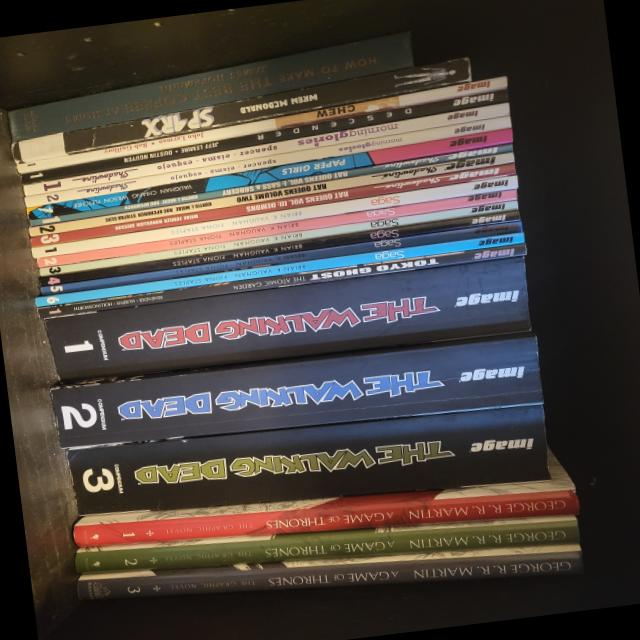book: (42, 256, 530, 383), (49, 332, 542, 450), (65, 404, 548, 519), (69, 450, 579, 549), (17, 75, 507, 177), (21, 88, 507, 187), (23, 101, 509, 198), (5, 30, 415, 144), (26, 127, 512, 222), (23, 114, 510, 208), (48, 56, 472, 159), (30, 173, 517, 260), (28, 151, 514, 238), (29, 162, 514, 248), (28, 143, 511, 227), (35, 187, 515, 271), (33, 230, 524, 310), (40, 208, 519, 288), (38, 199, 517, 278), (38, 219, 521, 297), (36, 242, 525, 319), (73, 513, 579, 575), (75, 542, 582, 602)
